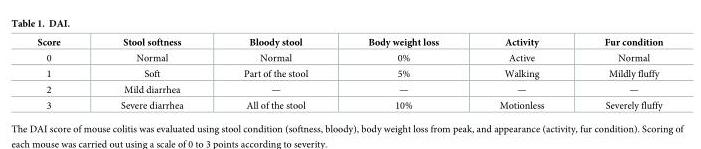table: (36, 36, 662, 110)
table column: (337, 36, 468, 110), (212, 36, 337, 110), (89, 36, 212, 110), (468, 36, 573, 110), (573, 36, 662, 110), (36, 36, 89, 110)
table column header: (36, 36, 662, 49)
table row: (36, 49, 662, 65), (36, 65, 662, 81), (36, 81, 662, 97), (36, 36, 662, 49), (36, 97, 662, 110)
